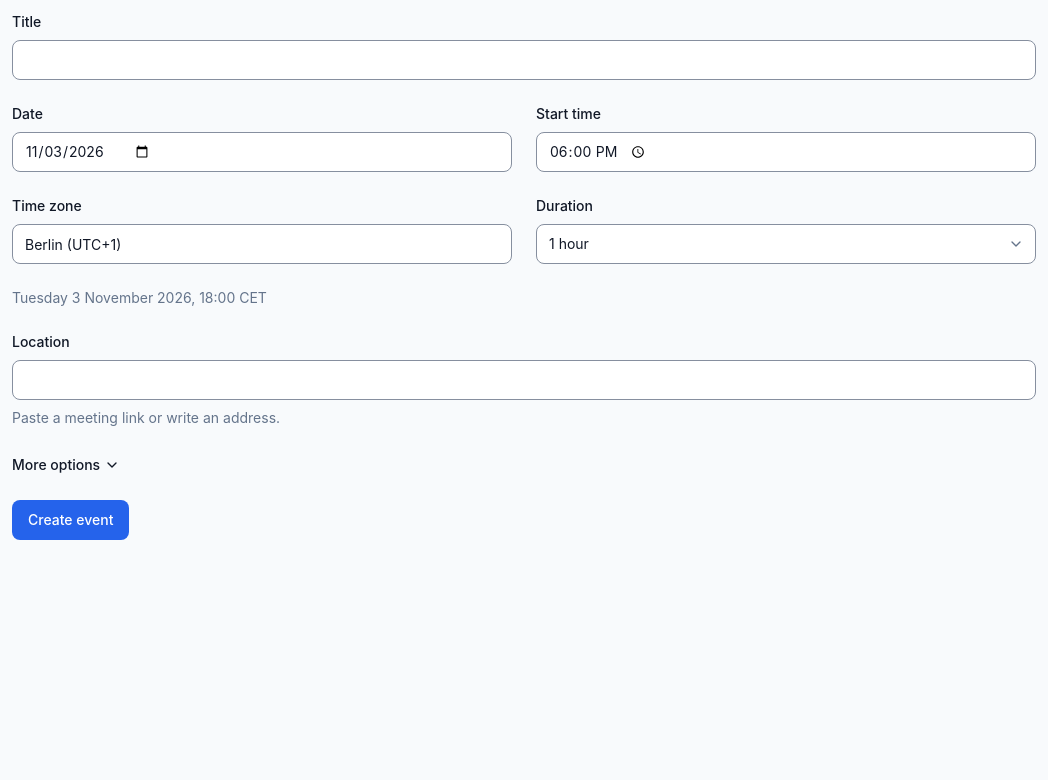
EventForm › searches time zones by city and selects the first match with Enter
Replace the text in the dropdown labelled "Time zone" with "new york" at (262, 244), box [12,224,512,264]
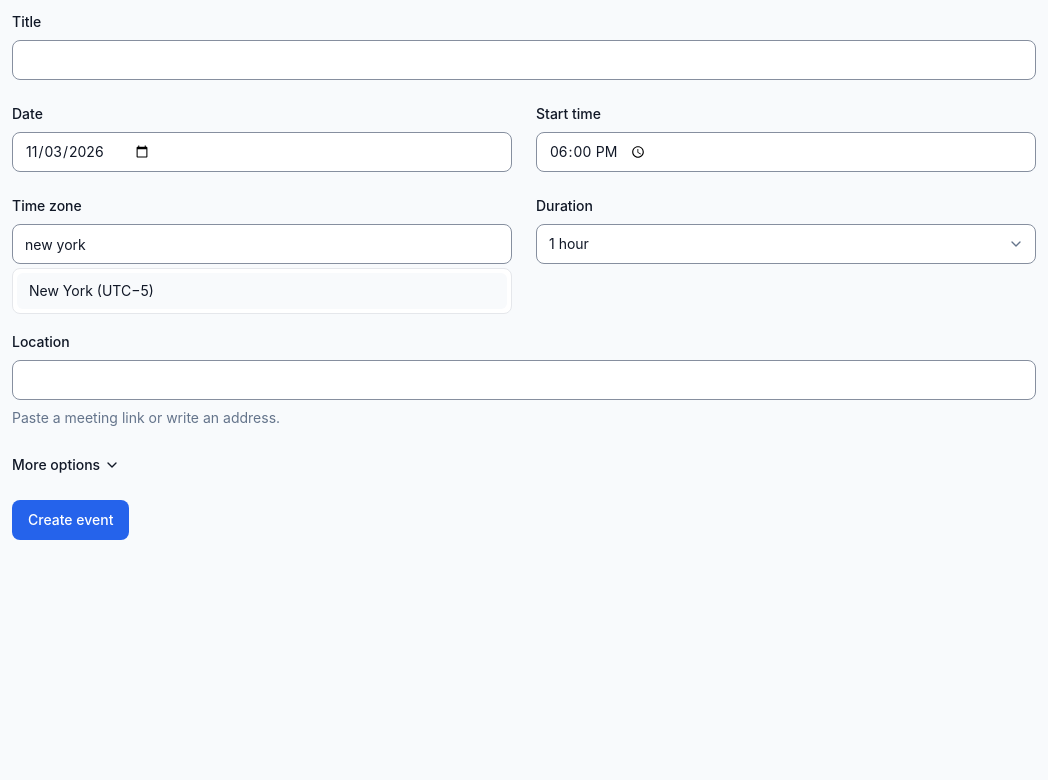
Check: the options read "New York (UTC−5)", in this order, box [17,273,507,309]
Press Enter in the dropdown labelled "Time zone", box [12,224,512,264]
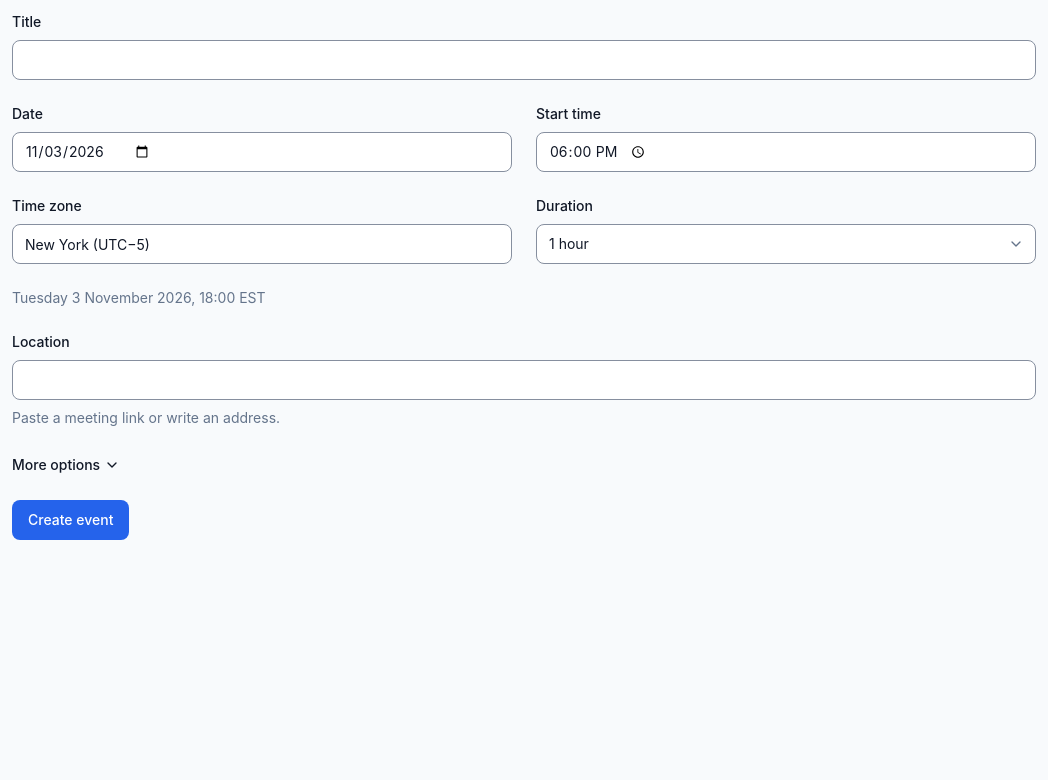
Check: the list is gone
